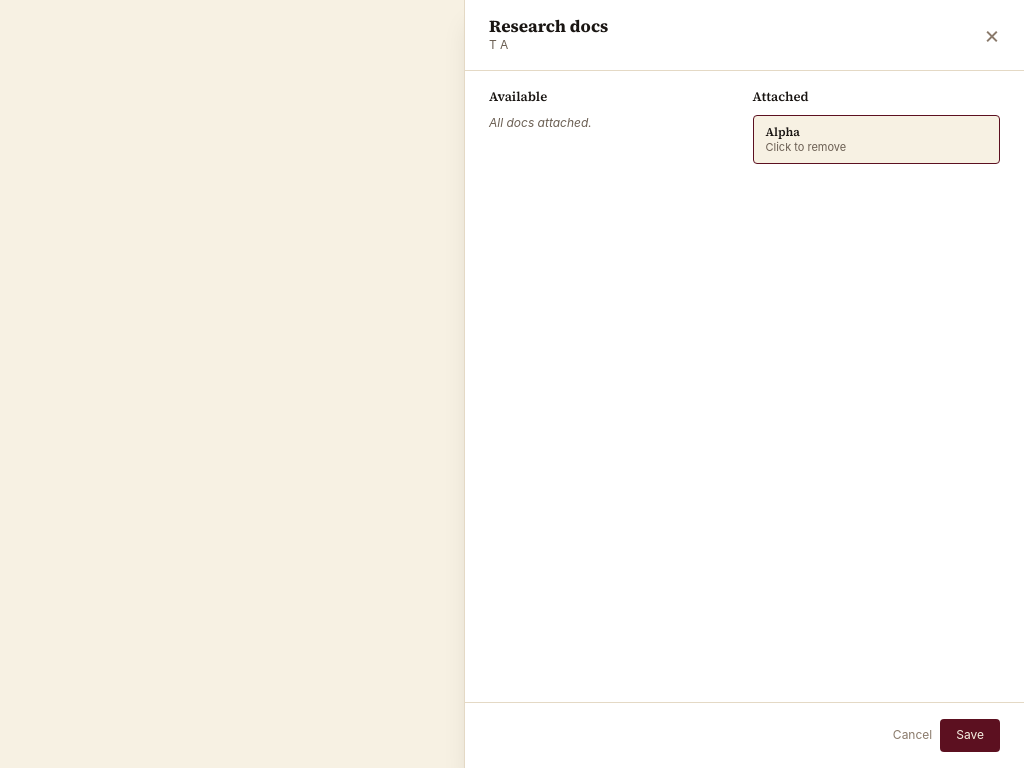
it: TemplateResearchEditor › shows error and stays open when patch fails
Expected: the text "Alpha" is shown, top-left (766, 124), bottom-right (800, 140)
What coordinates should you click on to do the following:
click the button with test id "research-save"
I would click on:
 (970, 736)
Its box is top-left (940, 719), bottom-right (1000, 752).
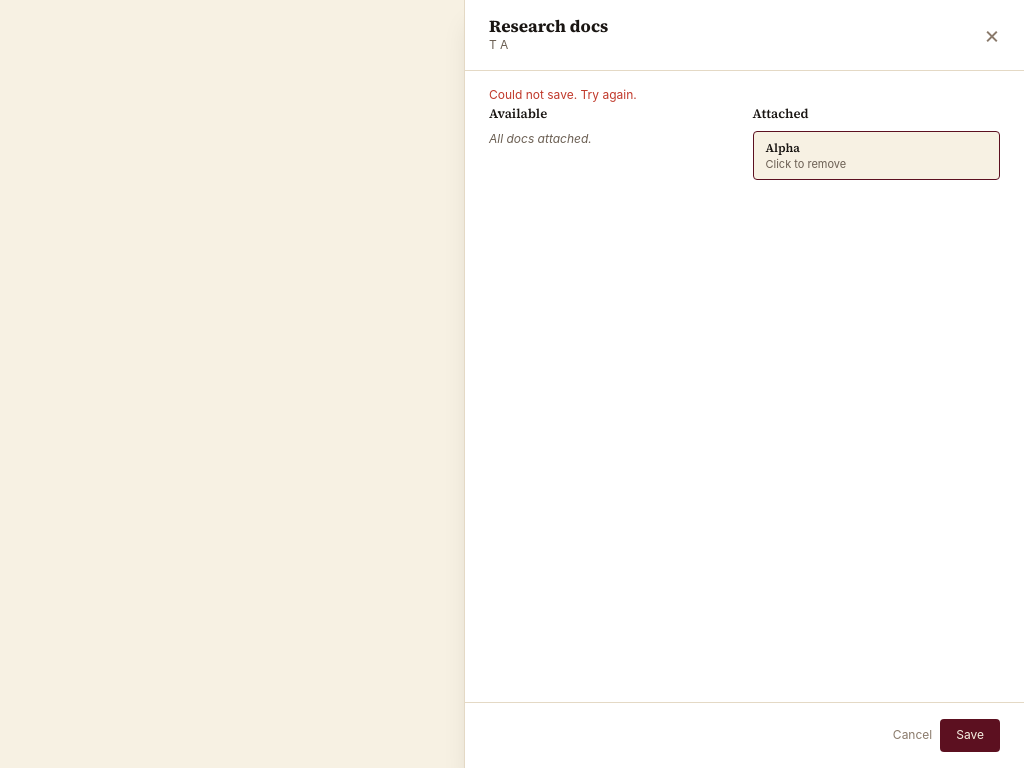
Expected: the message "Could not save. Try again." is shown, top-left (489, 87), bottom-right (637, 102)
